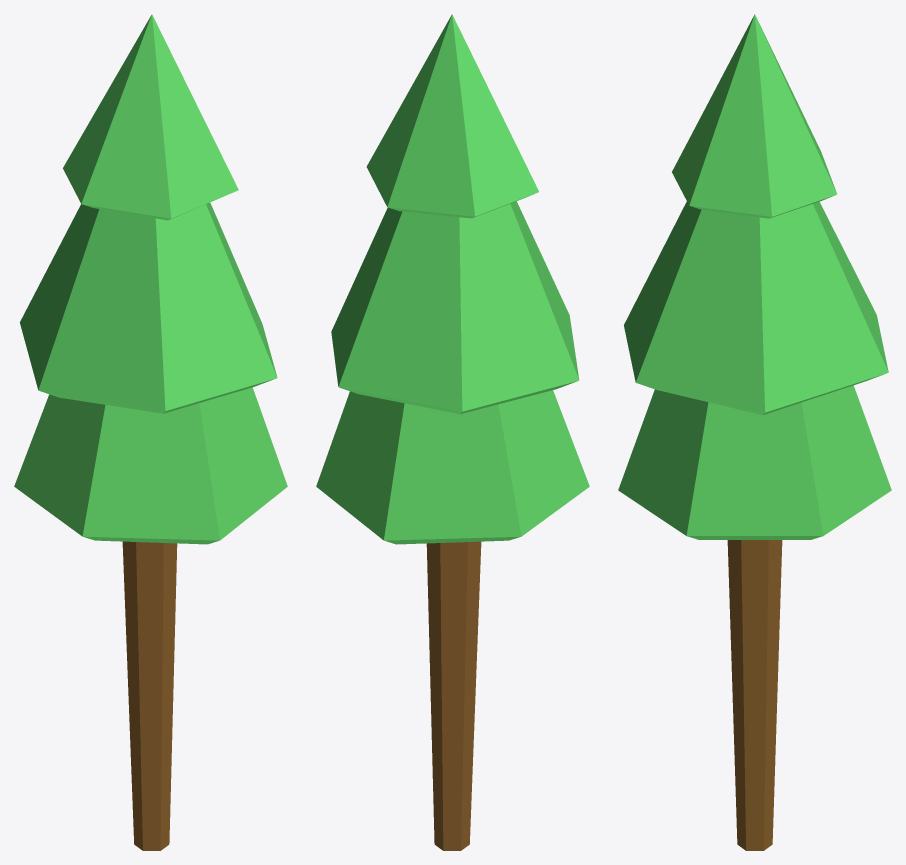
Rendered from Tree1.fbx.
3 renders of one model, left to right at view 1: azimuth 30°, elevation 25°; view 2: azimuth 150°, elevation 25°; view 3: azimuth 270°, elevation 25°, orthographic.
Parts seen in each view (by area): view 1: Tree1; view 2: Tree1; view 3: Tree1.
Part boxes in pixels (bbox=[...]): Tree1: bbox=[14, 14, 287, 850]; Tree1: bbox=[316, 14, 589, 850]; Tree1: bbox=[618, 14, 891, 850].
Size of the model in its own units: 160 by 537 by 161.
